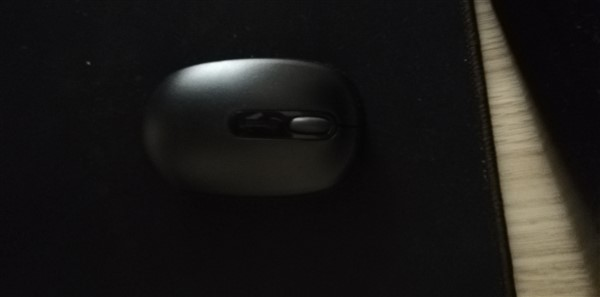mouse: (133, 52, 378, 205)
